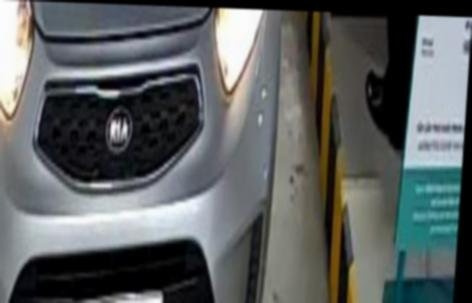License_Plate: (70, 289, 162, 303)
